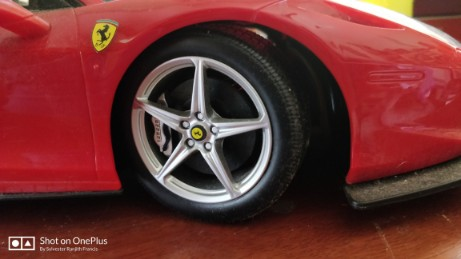unaligned_wheel: (114, 21, 330, 226)
